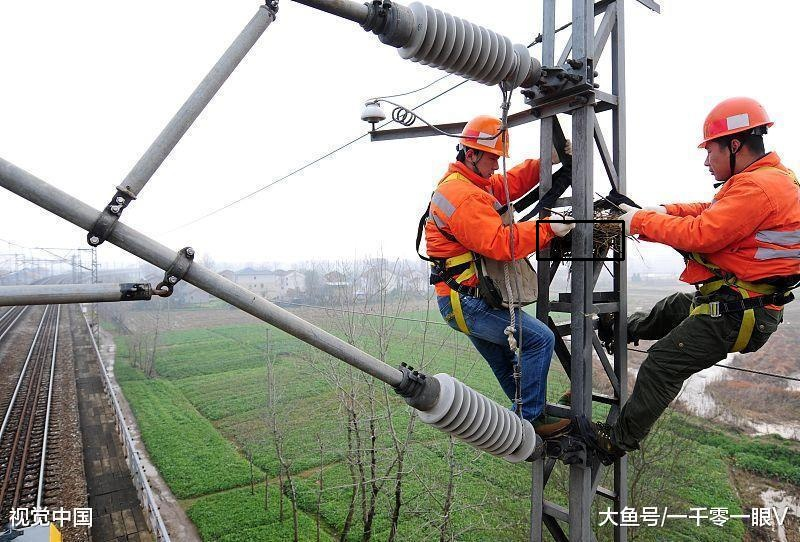bird-nest: (553, 208, 624, 249)
